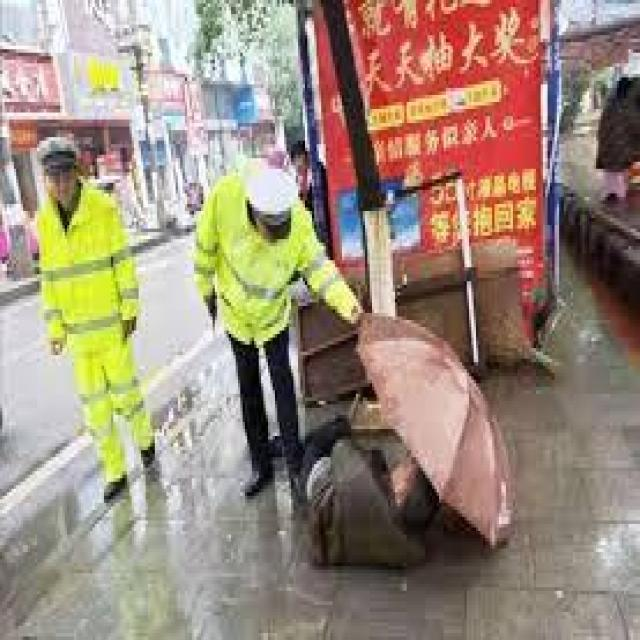fall: (289, 420, 438, 568)
nonfall: (196, 162, 359, 496), (40, 136, 155, 502)
